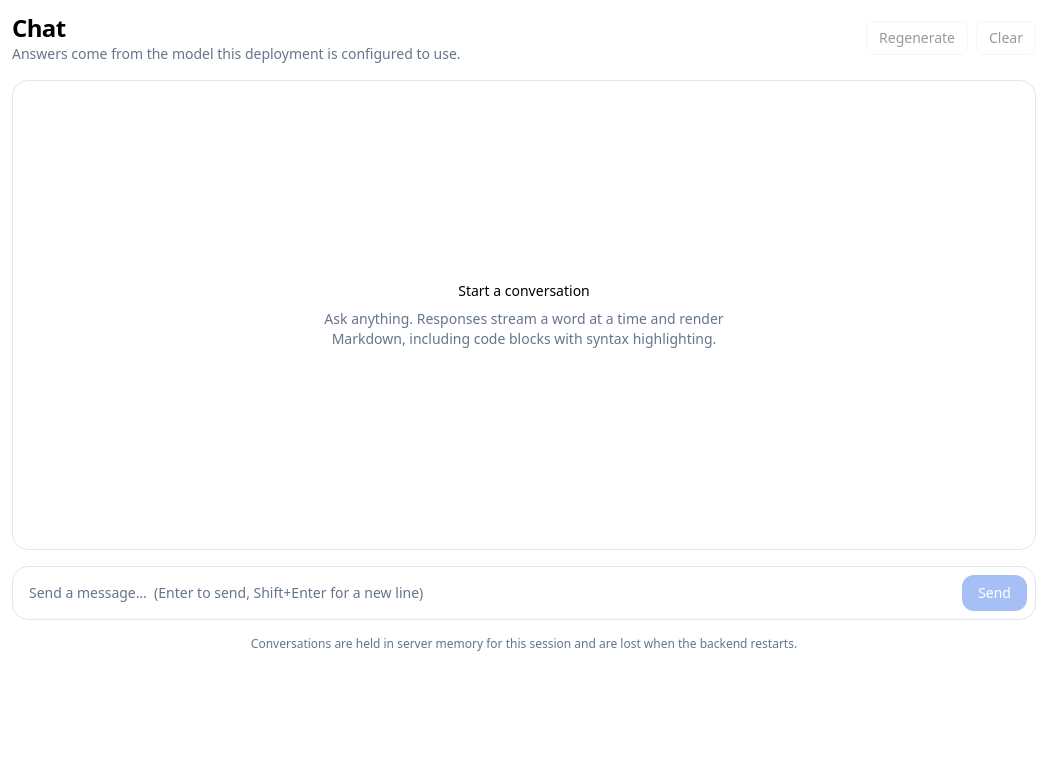
Scenario: Markdown rendering › renders Markdown structure as elements
Step 1. Type "markdown please" into the text box labelled "message" → (488, 593), box [21,575,954,611]
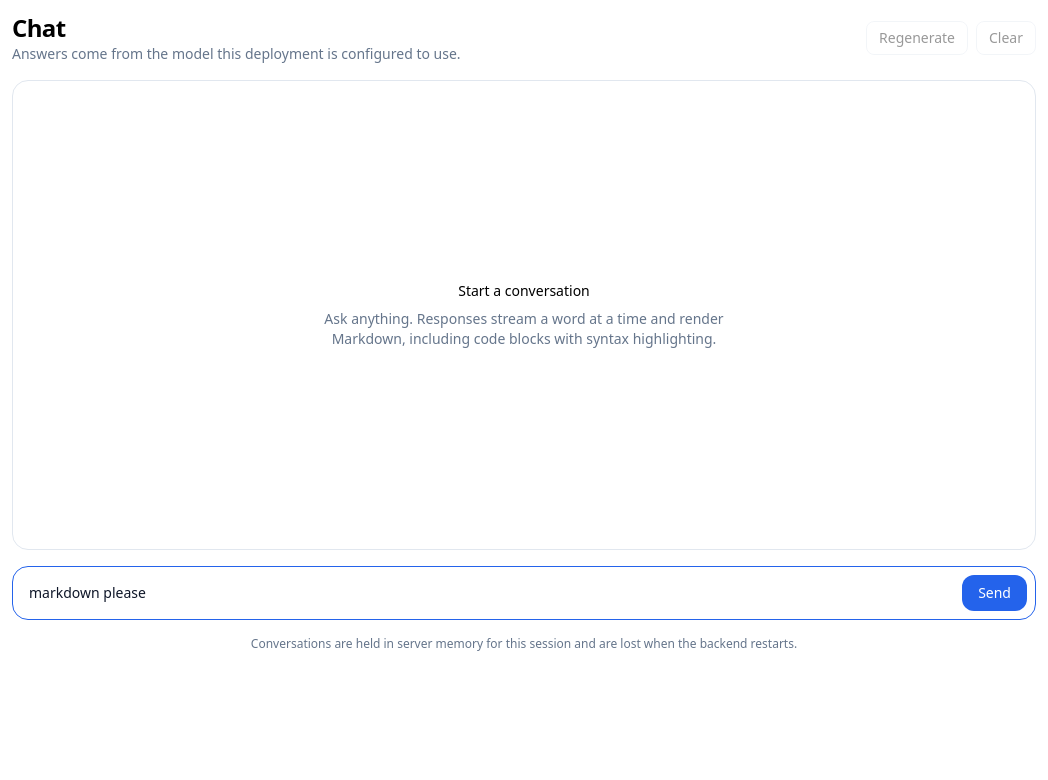
Step 2. Click the button "Send" → (995, 593), box [962,575,1027,611]
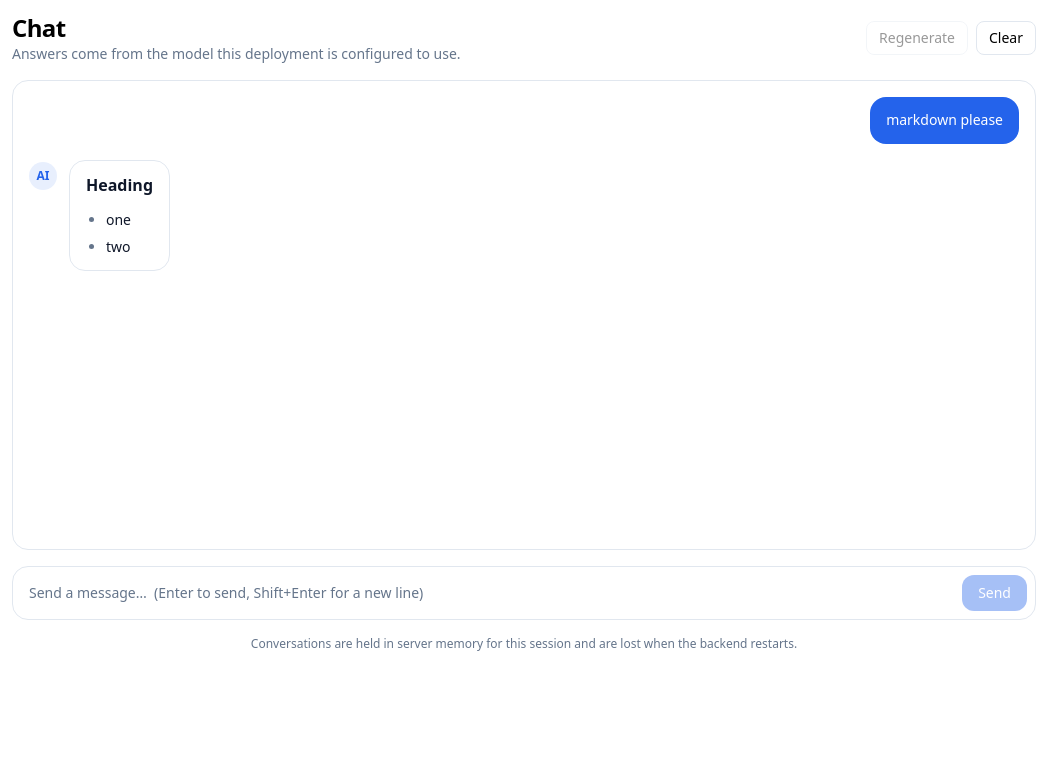
Result: the heading "Heading" is shown at [86,173,153,197]
Result: the number of list items is 2 at [106,210,131,229]; [106,236,130,256]
